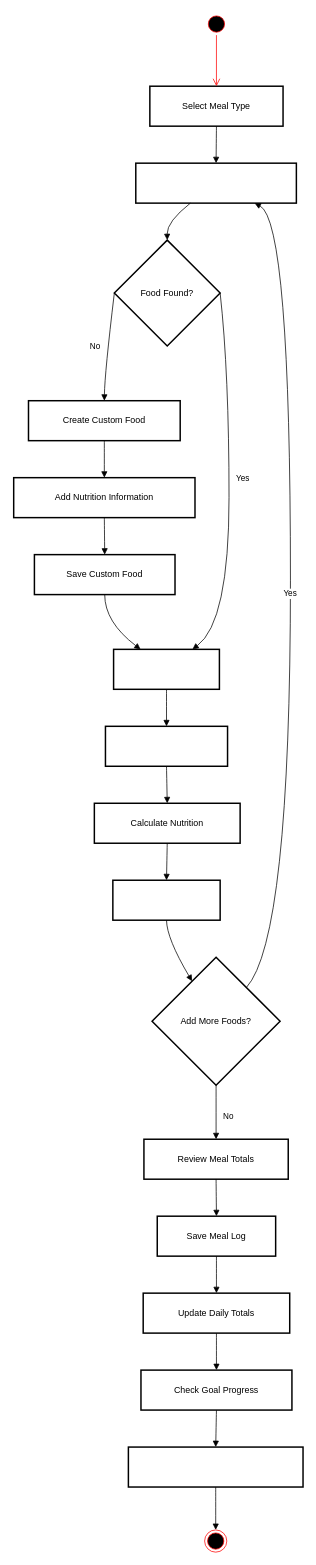
Some shapes in this 316 by 1565 pixel diagram are drawn without their labels. Here are the shapes that lost their labels. From the top down, the centre of each, then its label:
the point at 216,183: Search Food Database
the point at 166,669: Select Food
the point at 166,746: Enter Quantity
the point at 166,900: Add to Meal
the point at 215,1466: Show Nutrition Summary
